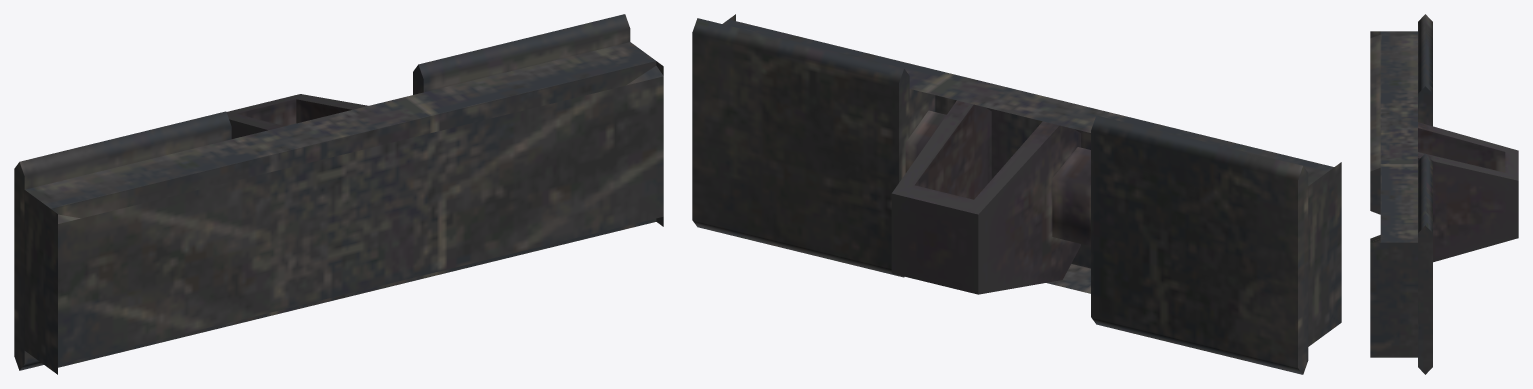
File: segment_pair_0.glb
The picture shows the model from 3 angles, left to right: view 1: azimuth 30°, elevation 25°; view 2: azimuth 150°, elevation 25°; view 3: azimuth 270°, elevation 25°; orthographic projection. The views are drawn at different scales.
Parts seen in each view (by area): view 1: set_0_group_0; view 2: set_0_group_0; view 3: set_0_group_0.
Boxes of the visible parts, left/top/right/bottom form: set_0_group_0: left=14, top=14, right=663, bottom=374; set_0_group_0: left=692, top=14, right=1341, bottom=374; set_0_group_0: left=1370, top=14, right=1518, bottom=374.
Bounding box in the file's own units: 0.4102 × 0.1353 × 0.1217.
Materials: 1 (1 with a texture image).
